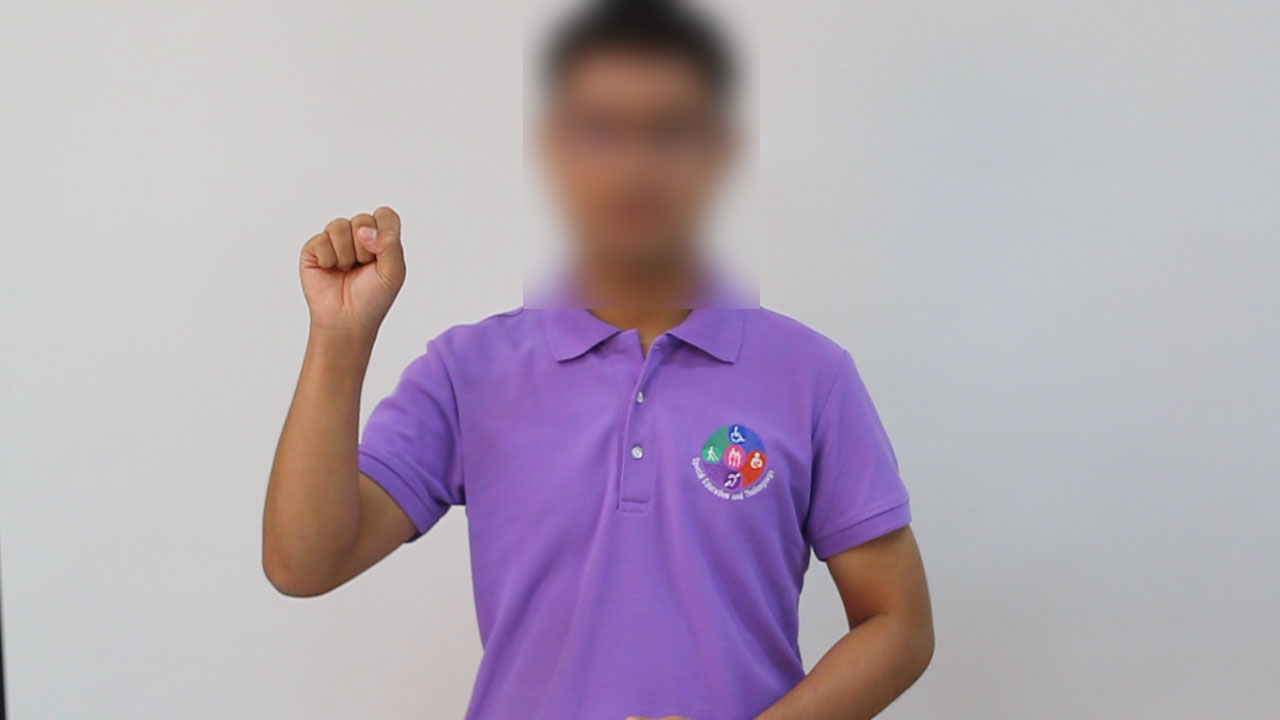sor: (282, 190, 428, 354)
